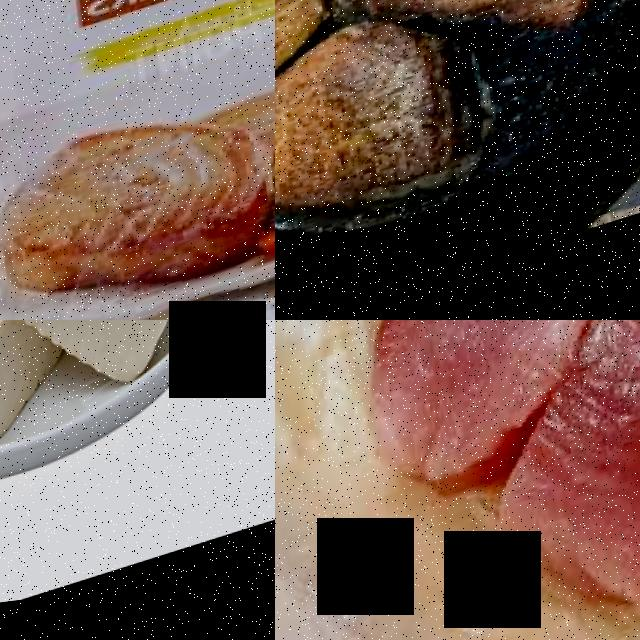tofu: (0, 320, 228, 428)
tuna: (331, 320, 640, 514), (455, 320, 640, 640)
